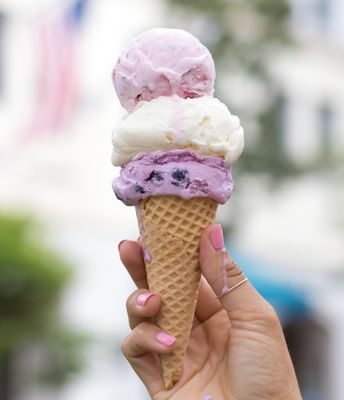pizza: (120, 222, 303, 400)
